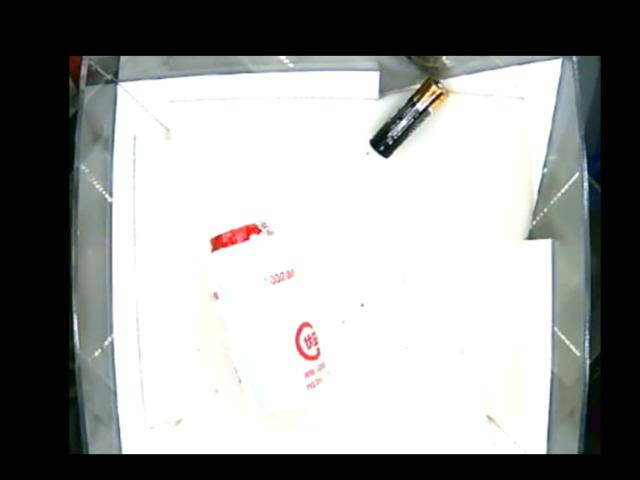Battery: (364, 79, 447, 159)
Bottle: (206, 219, 332, 412), (354, 213, 422, 340)
